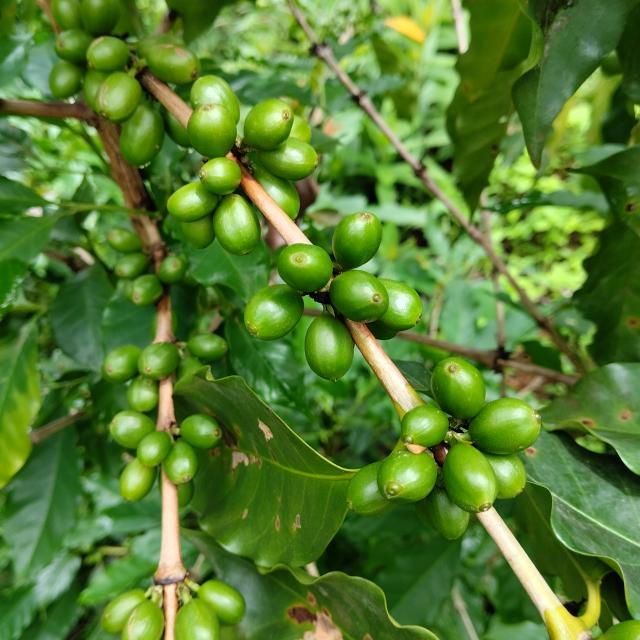green: (469, 399, 541, 455), (443, 444, 498, 514), (305, 312, 355, 382), (431, 358, 486, 421), (244, 284, 304, 341), (377, 450, 438, 505), (329, 270, 389, 323), (332, 211, 382, 270), (212, 194, 260, 255), (119, 104, 164, 167), (186, 103, 237, 158), (277, 243, 333, 292), (347, 462, 396, 518), (243, 98, 294, 150), (258, 136, 318, 180), (189, 74, 240, 124), (376, 278, 423, 331), (253, 167, 300, 219), (95, 70, 141, 123), (145, 43, 200, 84), (197, 581, 245, 627), (167, 181, 218, 222), (483, 452, 527, 499), (401, 405, 449, 448), (100, 590, 146, 634), (174, 599, 220, 640), (109, 411, 155, 449), (121, 600, 164, 640), (162, 440, 199, 485), (119, 458, 156, 502), (100, 345, 141, 384), (137, 342, 179, 380), (198, 157, 241, 194), (86, 35, 129, 71), (179, 414, 222, 450), (80, 0, 120, 34), (53, 28, 93, 62), (48, 59, 82, 98), (136, 431, 171, 468), (181, 214, 215, 249), (126, 376, 158, 412), (82, 69, 109, 110), (187, 334, 228, 361), (163, 109, 192, 147), (131, 274, 163, 307), (50, 0, 82, 29), (114, 252, 149, 278), (106, 228, 141, 253), (157, 255, 186, 284), (601, 621, 640, 640), (289, 114, 311, 143), (366, 322, 398, 340)
